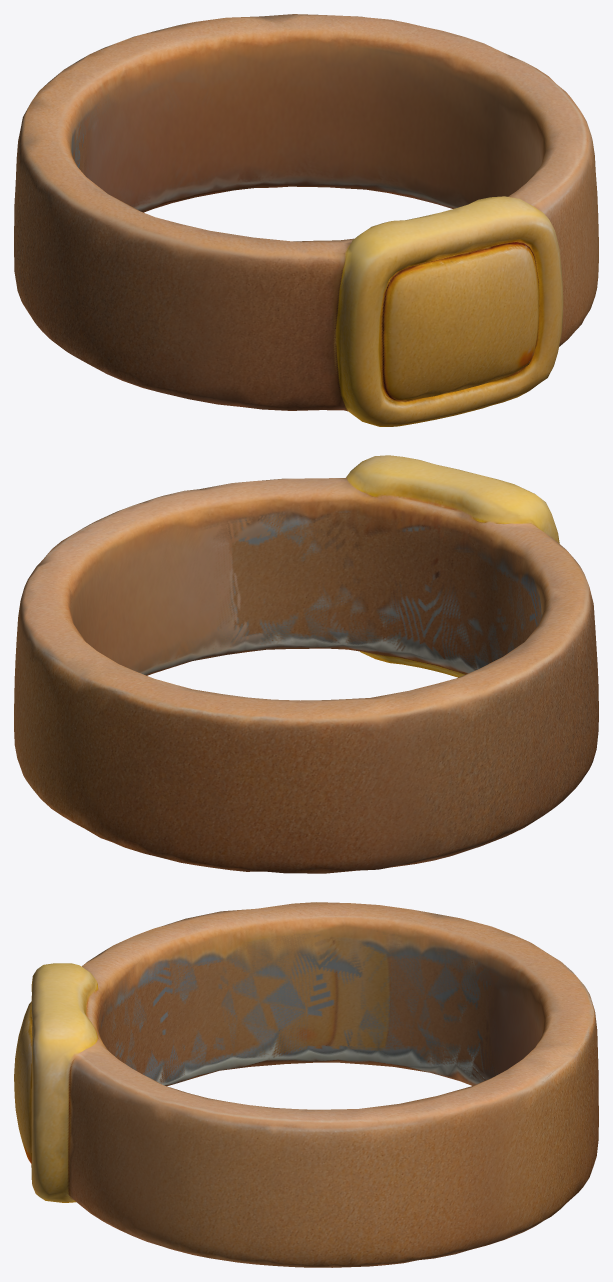
The model's file is P_CollarRing_h24.fbx.
3 renders of one model, top to bottom at view 1: azimuth 30°, elevation 25°; view 2: azimuth 150°, elevation 25°; view 3: azimuth 270°, elevation 25°, orthographic. The views are drawn at different scales.
Parts seen in each view (by area): view 1: texture_mapping; view 2: texture_mapping; view 3: texture_mapping.
Boxes of the visible parts, box(x1,y1,x2,y2) form: texture_mapping: box(14, 14, 598, 426); texture_mapping: box(14, 455, 598, 873); texture_mapping: box(14, 902, 598, 1267).
Size of the model in its own units: 92.1 by 33.85 by 99.94.
Materials: 1 (1 with a texture image).
